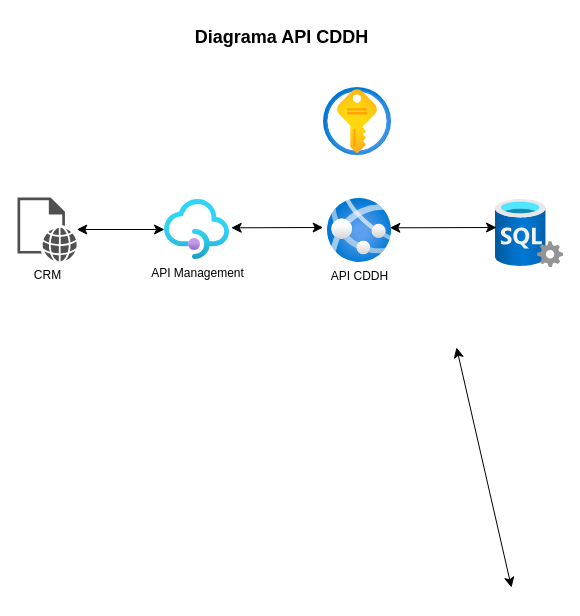
The diagram is 580 pixels wide and 616 high, and some of its shapes have lost their labels. The shapes that lost their labels are listed below. From the top down, each one's box as (x1, y1, x2, y2) in pixels, then its label:
(323, 87, 391, 155): Key Vault
(495, 199, 563, 267): Sql Server
